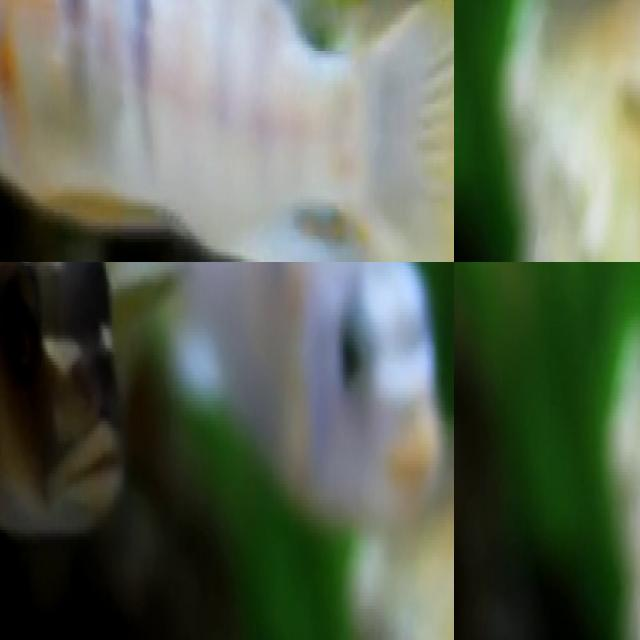fish: (0, 0, 454, 262), (69, 262, 453, 516)
